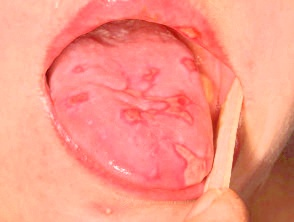SJS-TEN: (90, 51, 205, 156), (165, 17, 218, 105), (172, 135, 212, 191)
